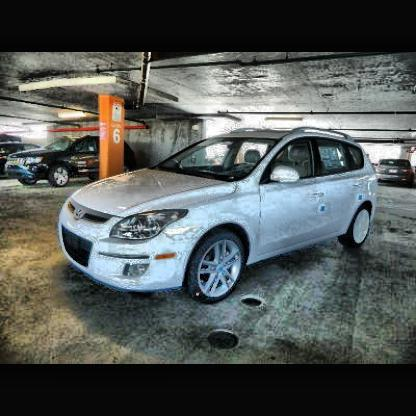Hyundai Elantra Touring Hatchback 2012: (61, 129, 380, 308)
